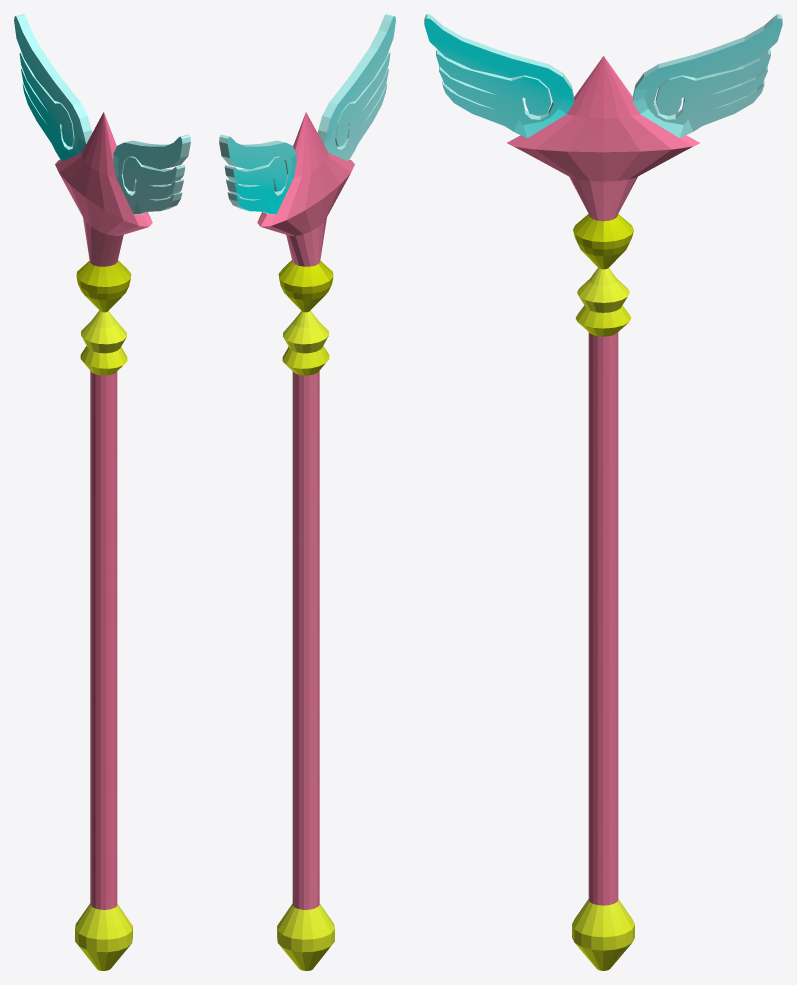
Rendered from StaffMagicianModel.fbx.
The picture shows the model from 3 angles, left to right: view 1: azimuth 30°, elevation 25°; view 2: azimuth 150°, elevation 25°; view 3: azimuth 270°, elevation 25°; orthographic projection. The views are drawn at different scales.
Parts seen in each view (by area): view 1: Sphere; view 2: Sphere; view 3: Sphere.
Part boxes in pixels (x1=…): Sphere: x1=14, y1=14, x2=190, y2=970; Sphere: x1=219, y1=14, x2=395, y2=970; Sphere: x1=424, y1=14, x2=782, y2=970.
Size of the model in its own units: 0.0929 by 1.58 by 0.5387.
1 material, 1 textured.
